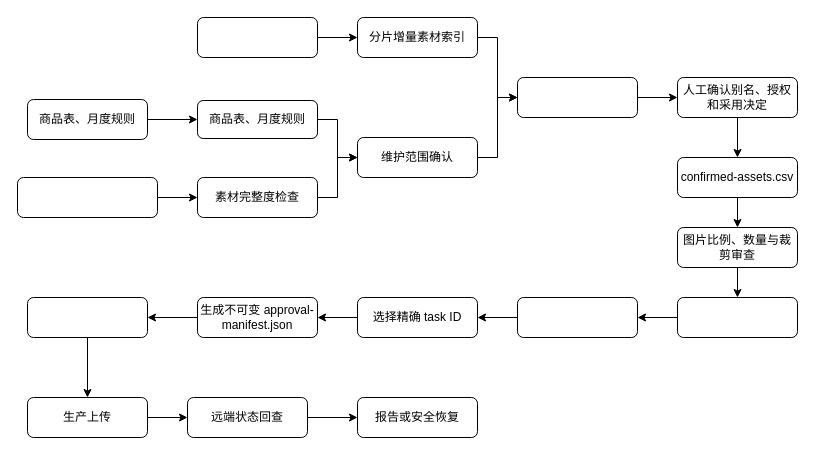
The diagram is 815 pixels wide and 455 high, and some of its shapes have lost their labels. Each missing label, with the box of its shape:
三处 NAS 图片源: (196, 16, 318, 58)
全量 dry-run: (516, 296, 638, 338)
再次确认店铺、商品和坑位: (26, 296, 148, 338)
名称与商品匹配候选: (516, 76, 638, 118)
坑位编排与标题/描述: (676, 296, 798, 338)
基础素材 / 搜推 XLSX: (16, 176, 158, 218)
